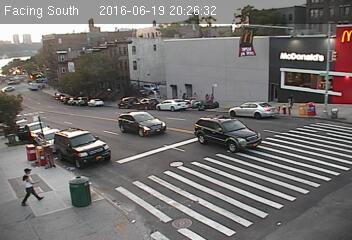neg: (220, 98, 247, 134), (195, 57, 217, 86)
pos: (9, 161, 44, 209)
